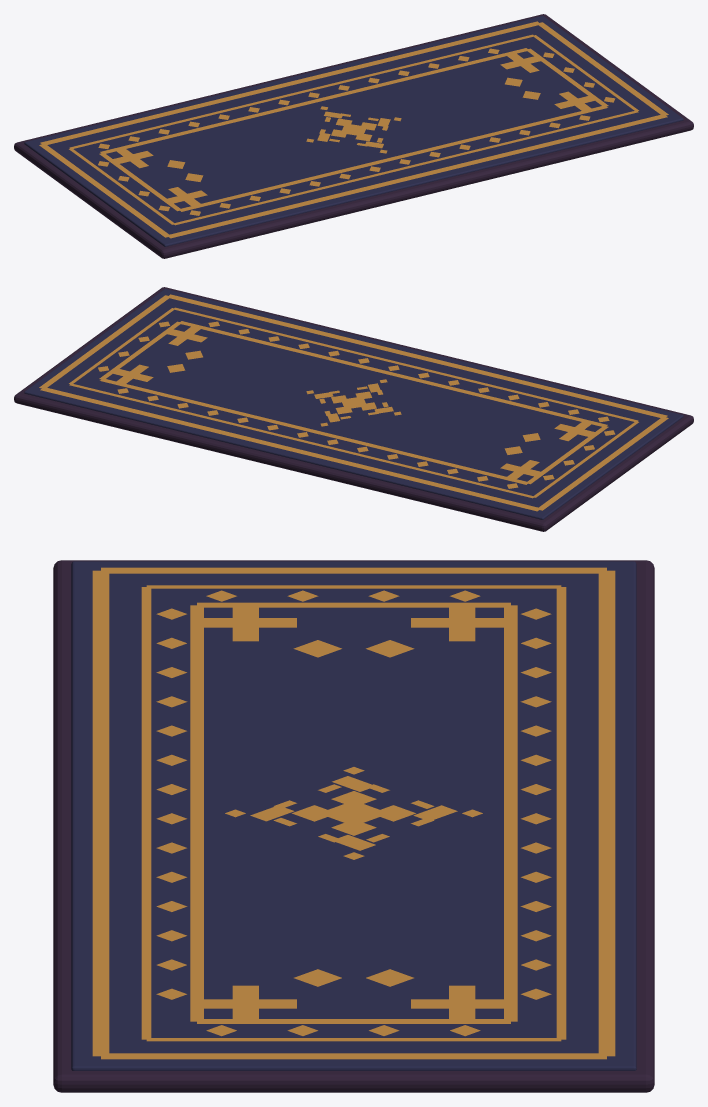
Rendered from entry-rug.glb.
The picture shows the model from 3 angles, top to bottom: view 1: azimuth 30°, elevation 25°; view 2: azimuth 150°, elevation 25°; view 3: azimuth 270°, elevation 25°; orthographic projection. The views are drawn at different scales.
Visible parts, largest first — view 1: entry_rug_pivot_Mesh; view 2: entry_rug_pivot_Mesh; view 3: entry_rug_pivot_Mesh.
Part boxes in pixels (x1,y1,x2,y2): entry_rug_pivot_Mesh: [14, 14, 693, 258]; entry_rug_pivot_Mesh: [14, 287, 693, 531]; entry_rug_pivot_Mesh: [53, 560, 654, 1092].
Bounding box in the file's own units: 2.21 × 0.0435 × 1.08.
